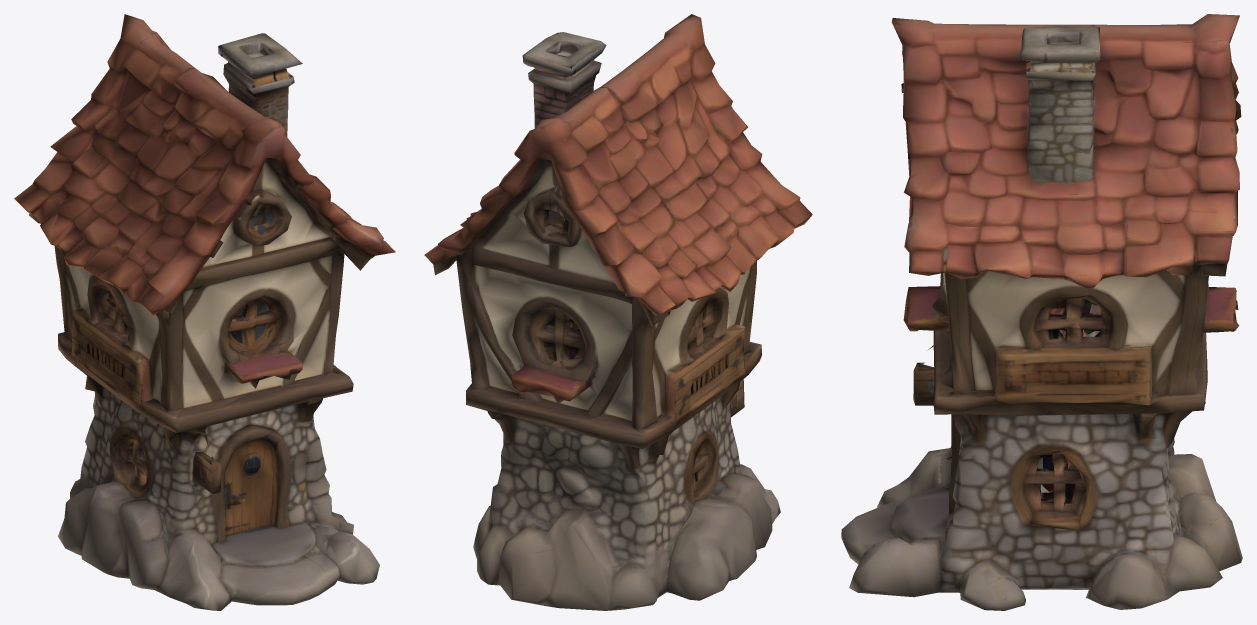
Rendered from A_whimsical_medieval__1104084918_texture.glb.
3 views of the same model, side by side, from view 1: azimuth 30°, elevation 25°; view 2: azimuth 150°, elevation 25°; view 3: azimuth 270°, elevation 25° (orthographic). The views are drawn at different scales.
Size of the model in its own units: 1.12 by 2.01 by 1.35.
Materials: 1 (1 with a texture image).
